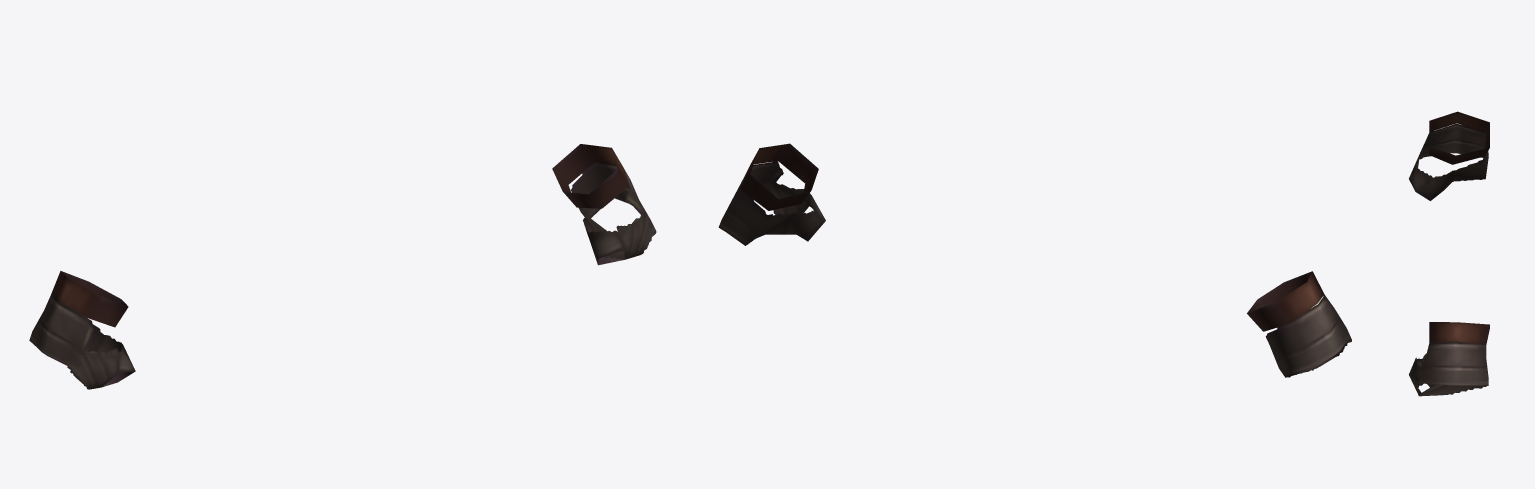
File: hum_berserker_06_190969bf.glb
3 renders of one model, left to right at view 1: azimuth 30°, elevation 25°; view 2: azimuth 150°, elevation 25°; view 3: azimuth 270°, elevation 25°, orthographic. The views are drawn at different scales.
Size of the model in its own units: 1.78 by 0.8227 by 0.3597.
Materials: 1 (1 with a texture image).
